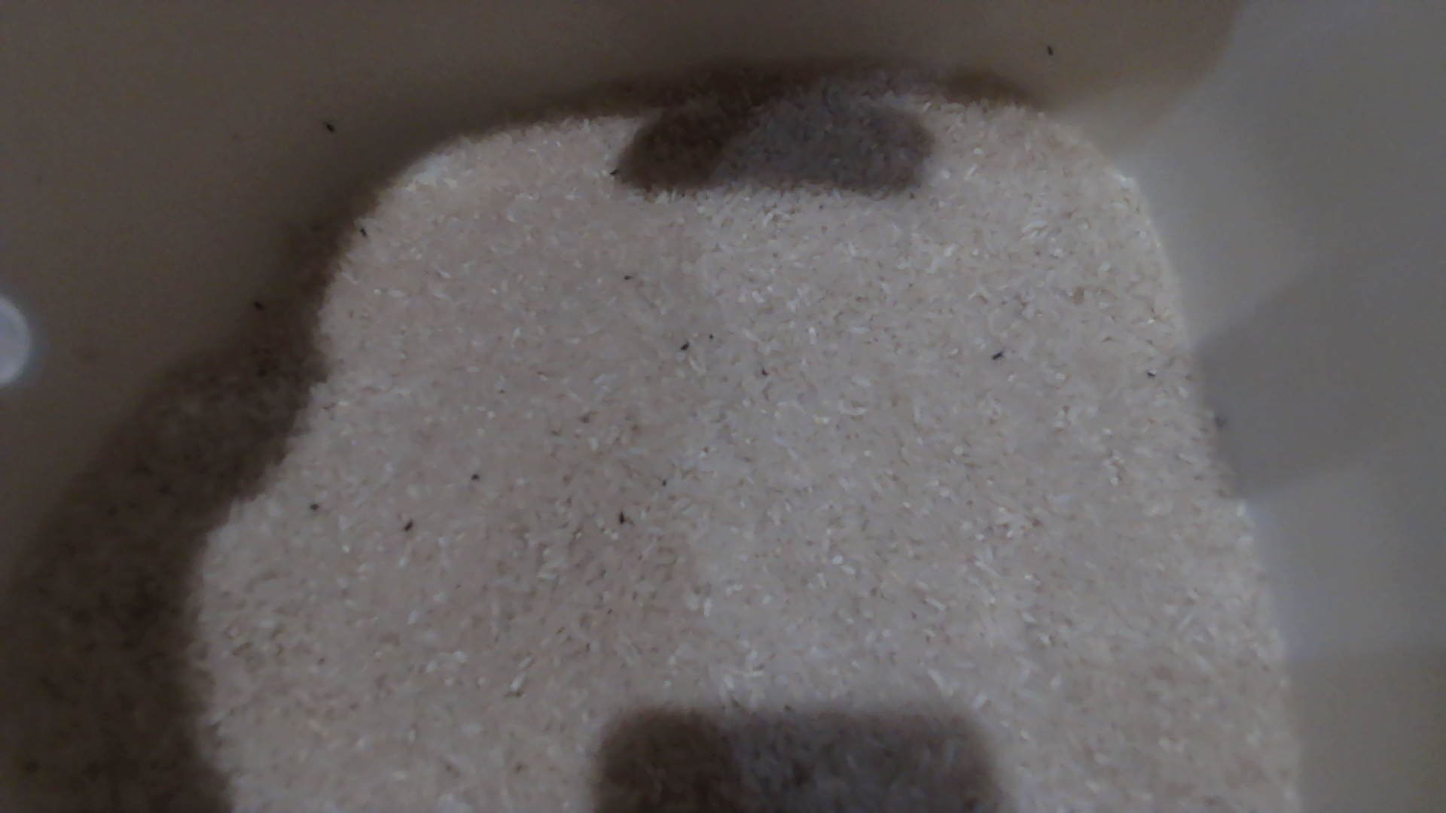Sitophilus-Oryzae: (358, 224, 371, 237), (323, 122, 336, 132), (618, 510, 627, 524), (403, 519, 413, 531), (1046, 44, 1055, 56), (679, 342, 690, 351)
